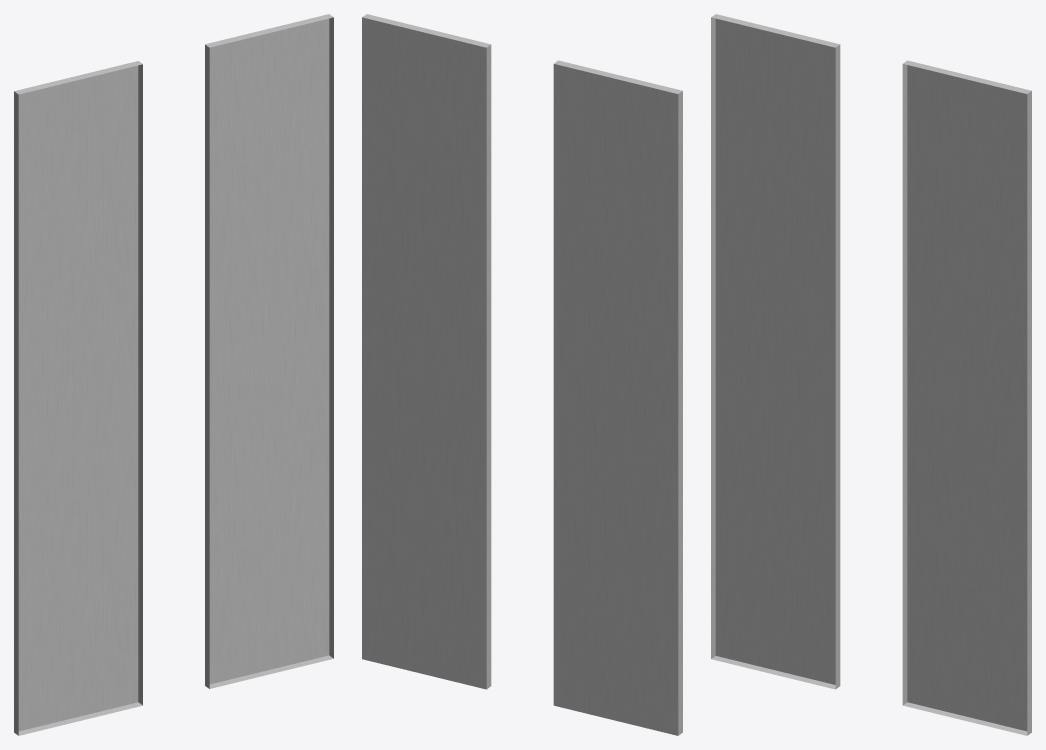
Rendered from MainDoorSteel.FBX.
The picture shows the model from 3 angles, left to right: view 1: azimuth 30°, elevation 25°; view 2: azimuth 150°, elevation 25°; view 3: azimuth 330°, elevation 25°; orthographic projection.
Parts seen in each view (by area): view 1: Main-Steel-B, Main-Steel-A; view 2: Main-Steel-B, Main-Steel-A; view 3: Main-Steel-B, Main-Steel-A.
Part boxes in pixels (left/top/right/bottom): Main-Steel-B: left=205, top=14, right=333, bottom=688; Main-Steel-A: left=14, top=61, right=142, bottom=735; Main-Steel-B: left=362, top=14, right=491, bottom=689; Main-Steel-A: left=553, top=60, right=682, bottom=735; Main-Steel-B: left=902, top=60, right=1031, bottom=735; Main-Steel-A: left=711, top=14, right=840, bottom=689.
Size of the model in its own units: 0.4322 by 0.0118 by 0.8396.
1 material, 1 textured.
